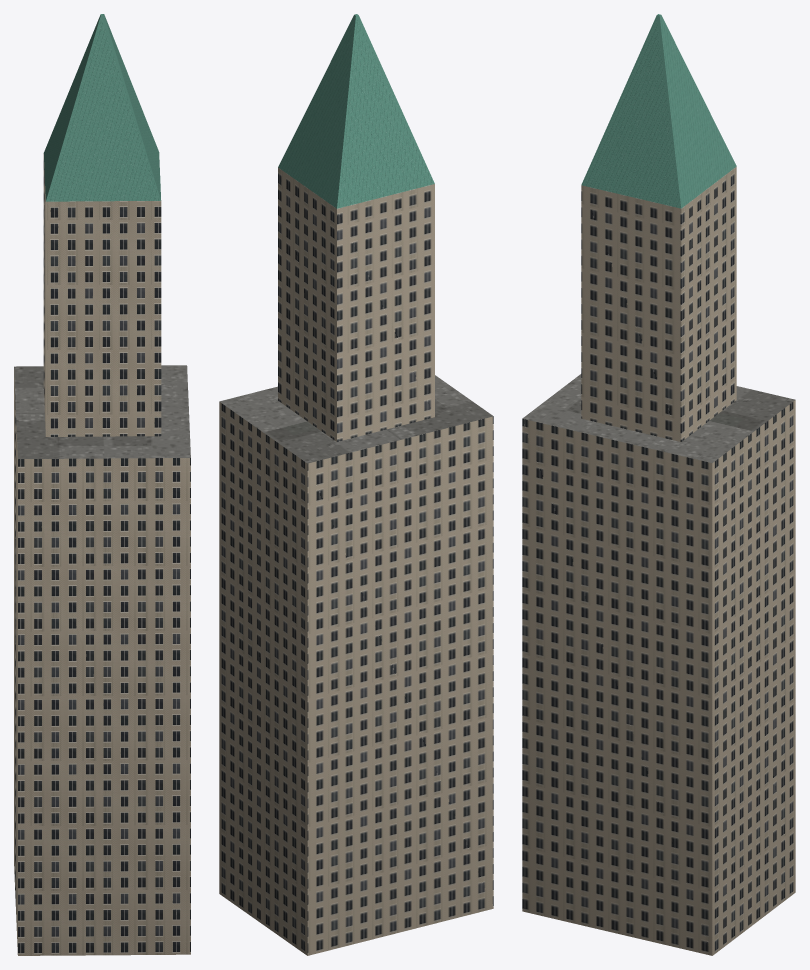
The model's file is sherry.glb.
3 renders of one model, left to right at view 1: azimuth 30°, elevation 25°; view 2: azimuth 150°, elevation 25°; view 3: azimuth 270°, elevation 25°, orthographic.
Parts seen in each view (by area): view 1: sherry; view 2: sherry; view 3: sherry.
Part boxes in pixels (bbox=[...]): sherry: bbox=[14, 14, 190, 955]; sherry: bbox=[219, 14, 493, 955]; sherry: bbox=[522, 14, 795, 955].
Bounding box in the file's own units: 44.66 × 171 × 47.78.
6 materials, 6 textured.
